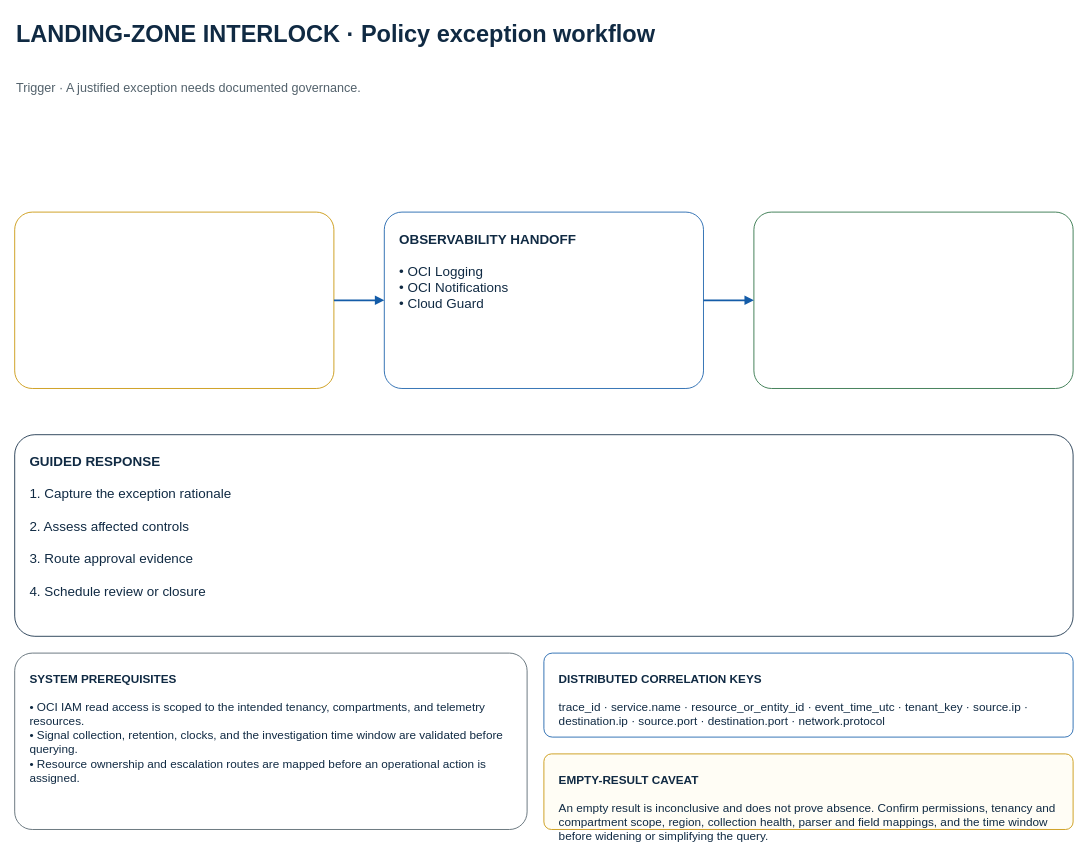
Image size: 1088x858. Some labels were removed from this diagram. The shapes that lost their labels are listed below. From the top down, each one's box as (x1, y1, x2, y2) in pixels, then its label:
(14, 211, 334, 388): SOURCE EVIDENCE • Exception request • Policy context • Risk evidence
(753, 211, 1073, 388): OPERATIONAL OUTCOME • Make exceptions visible, time-bound, and reviewable.
